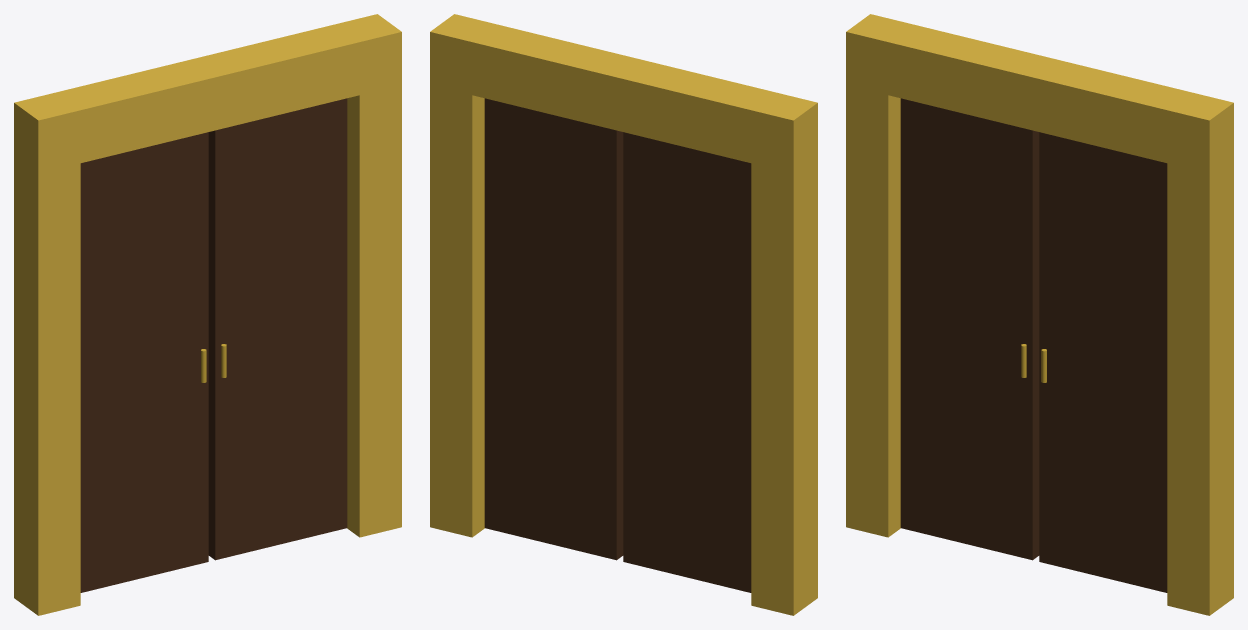
File: CB_ENV_VN_Door_Colonial_A.glb
3 views of the same model, side by side, from view 1: azimuth 30°, elevation 25°; view 2: azimuth 150°, elevation 25°; view 3: azimuth 330°, elevation 25° (orthographic).
Visible parts, largest first — view 1: CB_ENV_VN_Door_Colonial_A; view 2: CB_ENV_VN_Door_Colonial_A; view 3: CB_ENV_VN_Door_Colonial_A.
Part boxes in pixels (box(x1,y1,x2,y2)): CB_ENV_VN_Door_Colonial_A: box(14, 14, 401, 615); CB_ENV_VN_Door_Colonial_A: box(430, 14, 817, 615); CB_ENV_VN_Door_Colonial_A: box(846, 14, 1233, 615).
Bounding box in the file's own units: 2.15 × 2.8 × 0.25.
